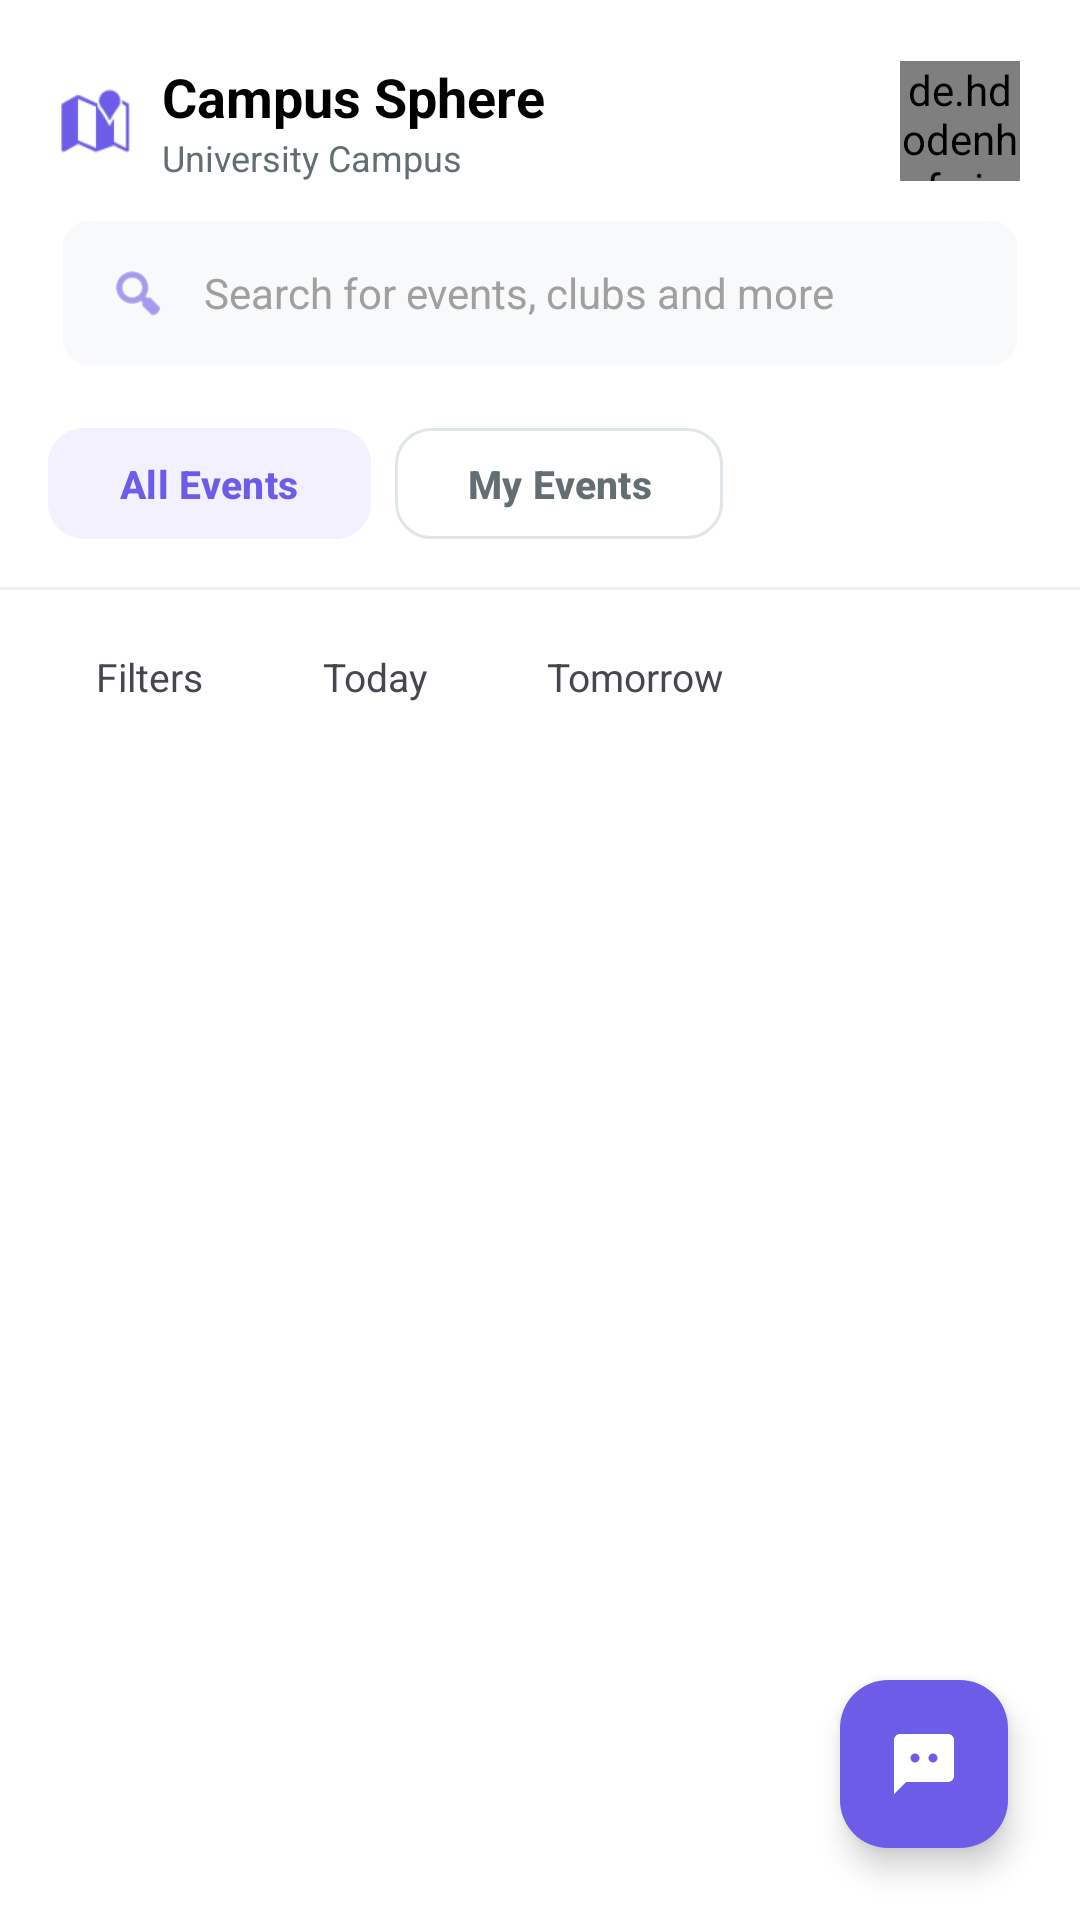

Point at icon controls on the screen. Image size 1080 x 1920, points as (x,y).
Chat with AI: (924,1764)
map: (95,121)
